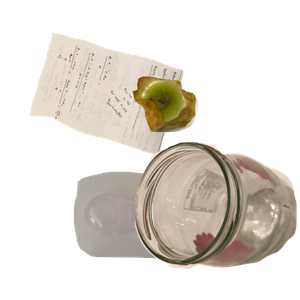glass: (132, 139, 300, 300)
paper: (27, 30, 203, 178)
plastic: (71, 169, 275, 300)
trash: (130, 74, 300, 199)
